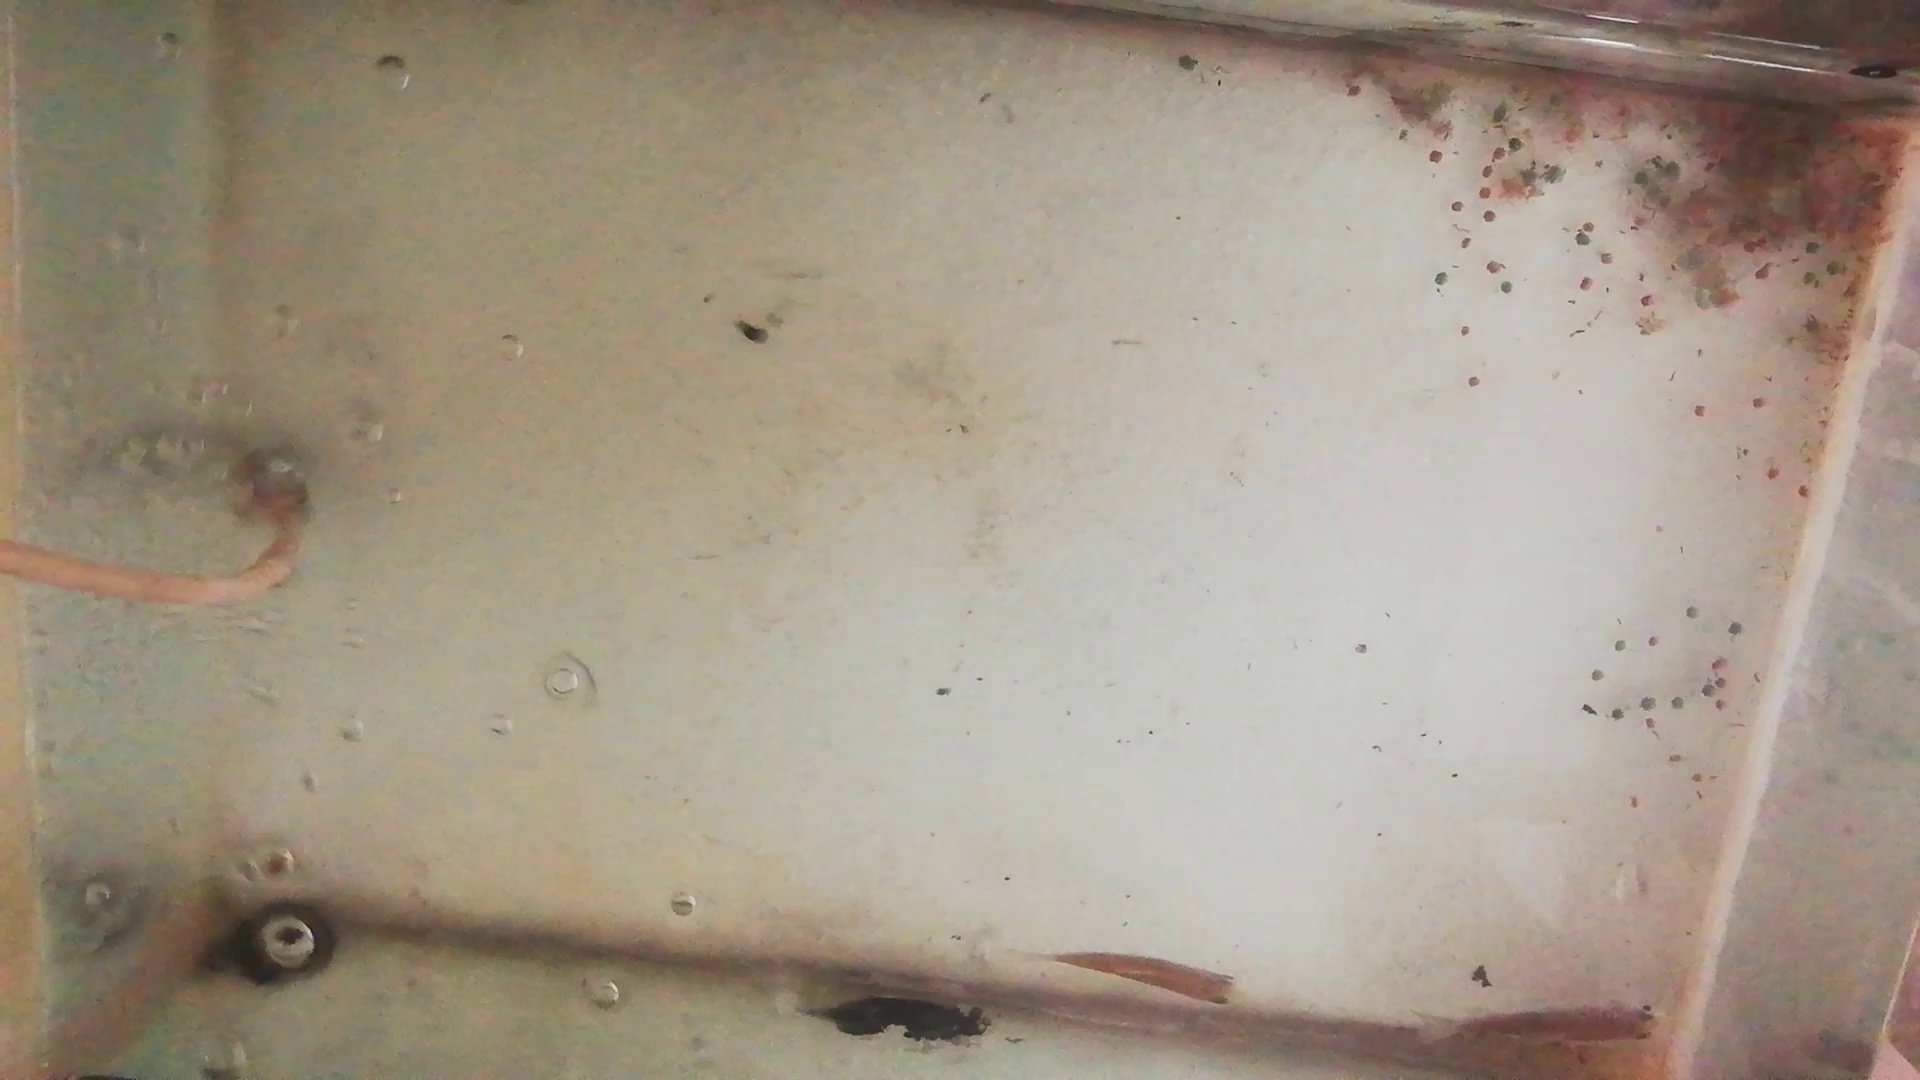fish: (1054, 947, 1250, 1011), (1458, 998, 1671, 1051)
